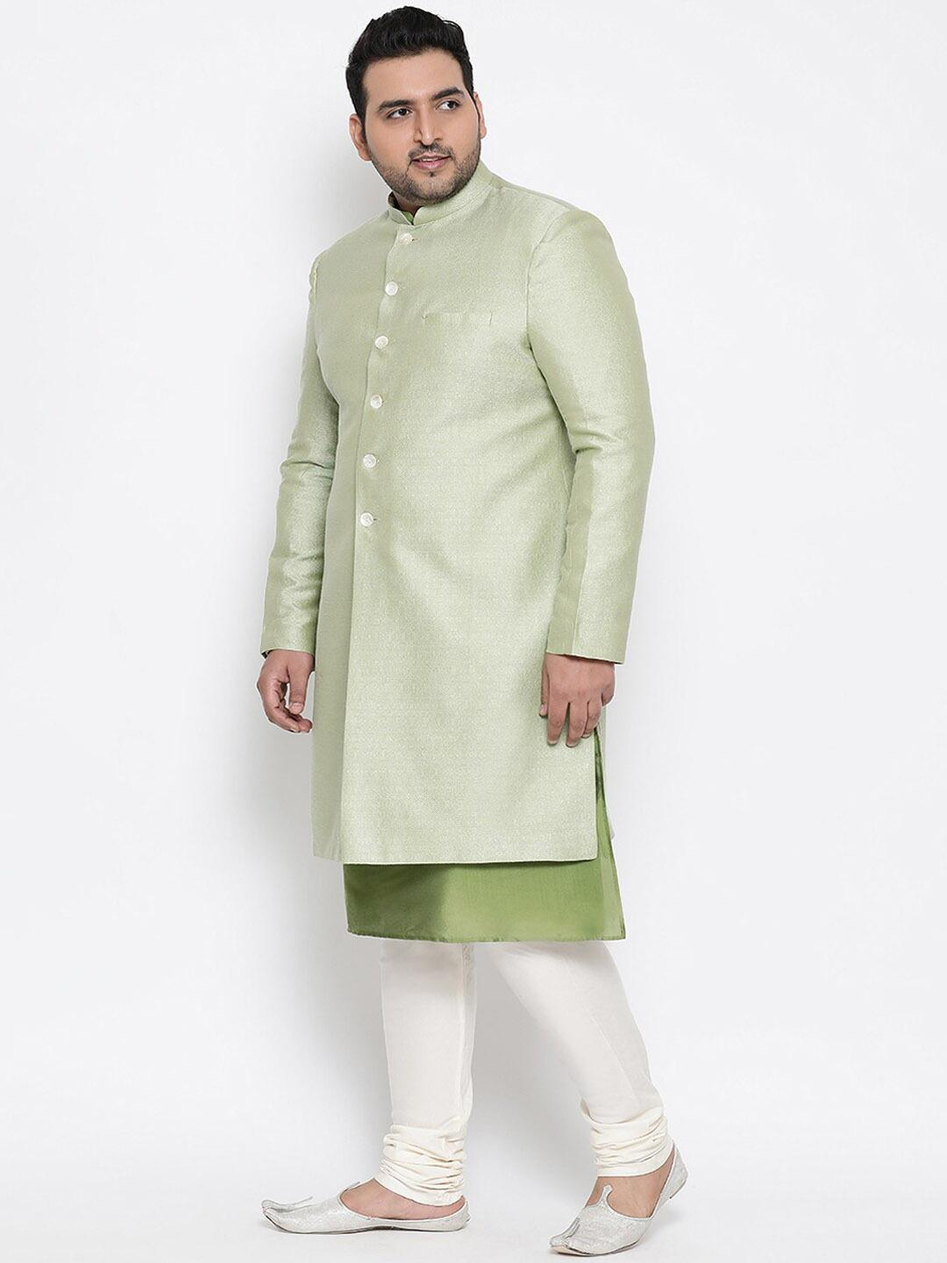Plain Sherwani: (253, 158, 663, 878)
